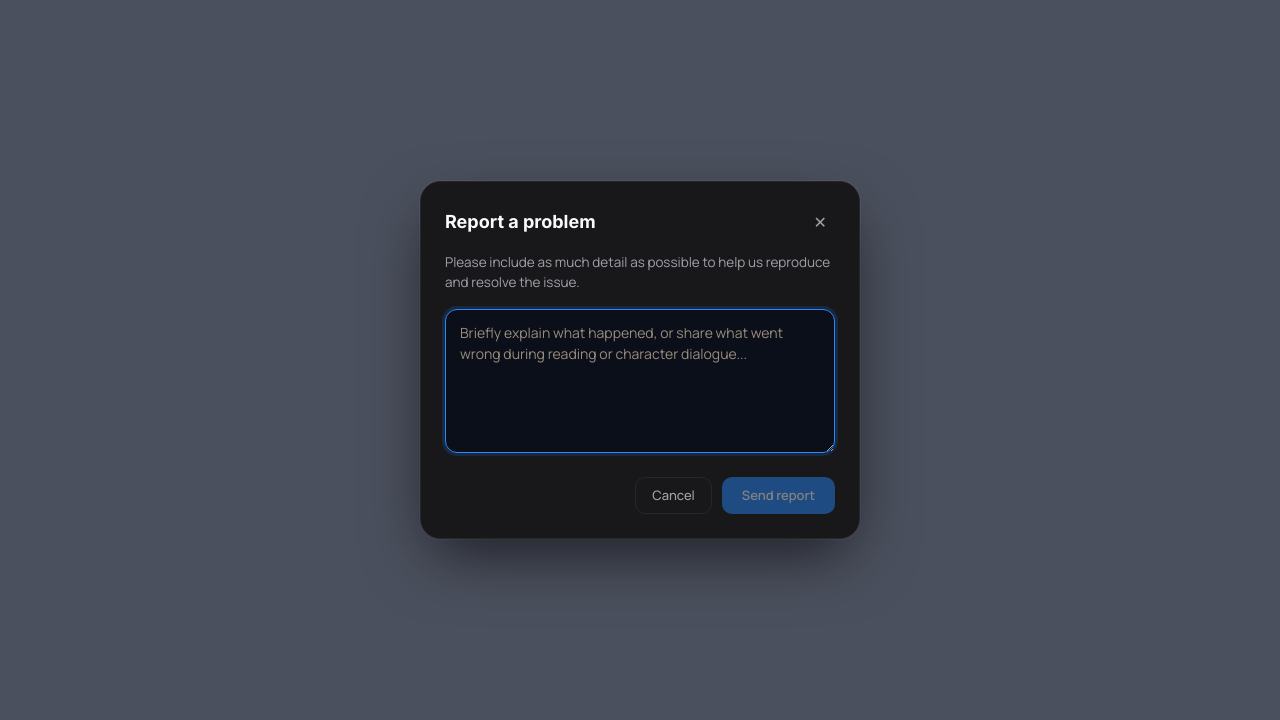
ReportProblemModal Component › renders modal dialog when isOpen is true and submits report
Expected: the button "Send report" is disabled, [722,476,835,514]
Replace the text in the text box with placeholder "Briefly explain what happened" with "Dialogue stopped mid-sentence in chapter 2." at (640, 380), box [445,308,835,452]
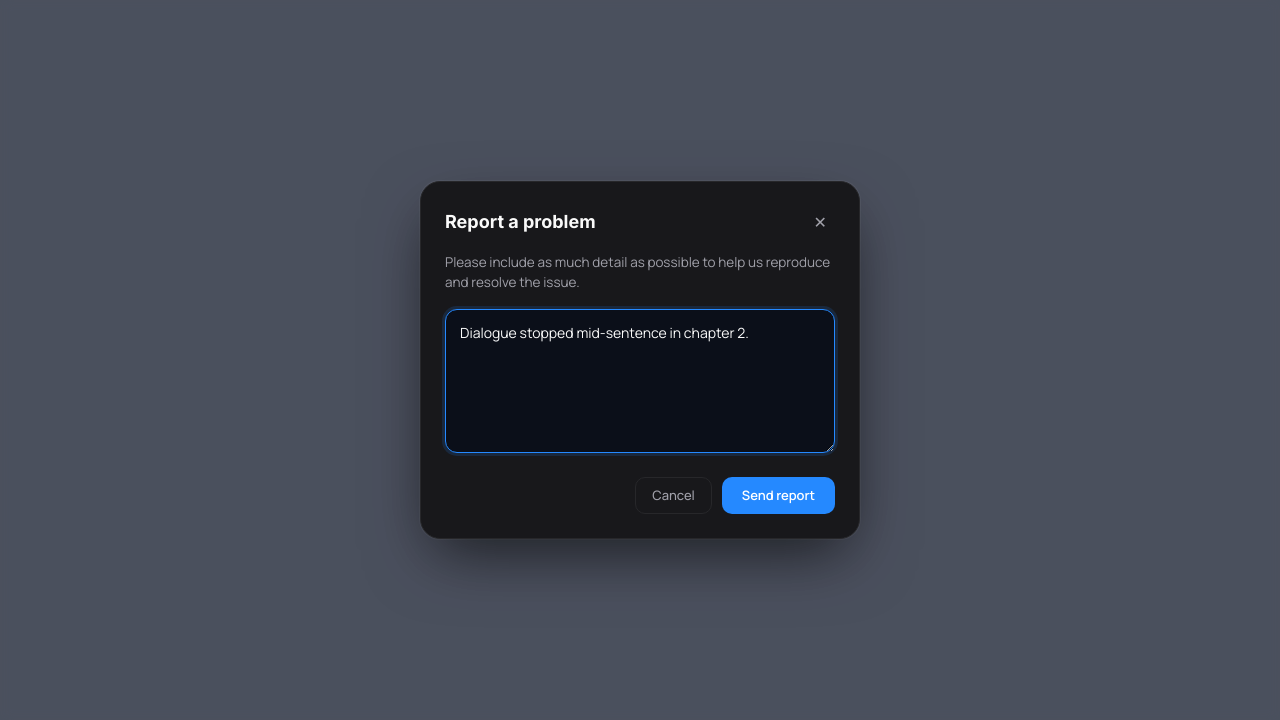
Expected: the button "Send report" is enabled
Click the button "Send report" at (778, 495), box [722,476,835,514]
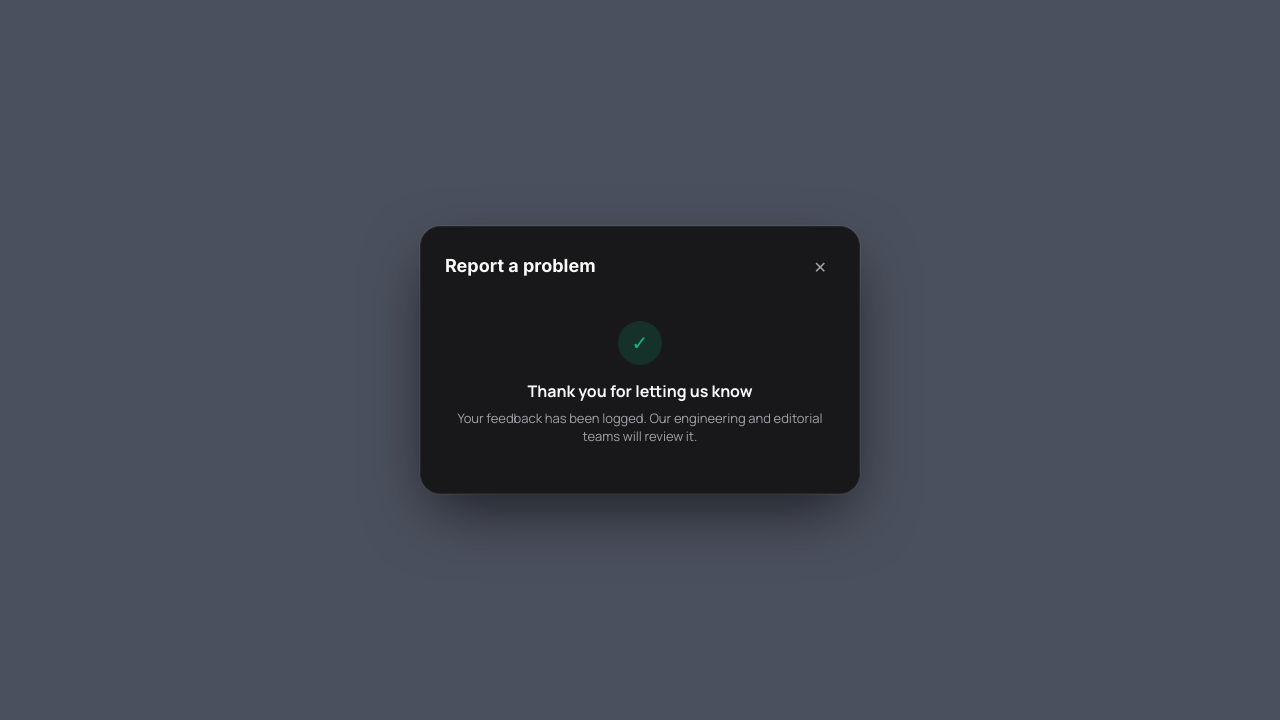
Expected: the text "Thank you for letting us know" is shown, [528,379,752,403]
